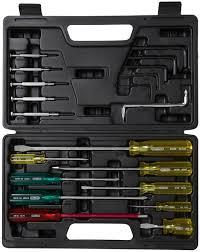screwdriver: (11, 139, 191, 153), (8, 190, 148, 203), (51, 162, 193, 174), (80, 180, 192, 193), (7, 210, 149, 220), (7, 172, 119, 182), (139, 216, 192, 235), (127, 201, 192, 211), (7, 154, 89, 161), (9, 110, 74, 117), (8, 80, 68, 86), (8, 51, 59, 58), (8, 65, 61, 71), (9, 95, 68, 100)
